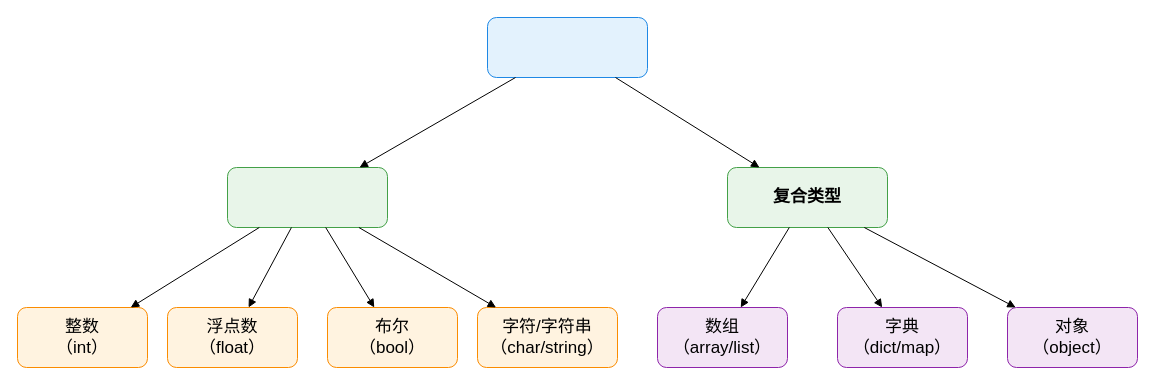
This 1155x385 diagram has some shape labels left out. Here are the shapes that lost their labels. From the top down, the centre of each, then its label:
(x=567, y=47): 数据类型
(x=307, y=197): 基本类型
